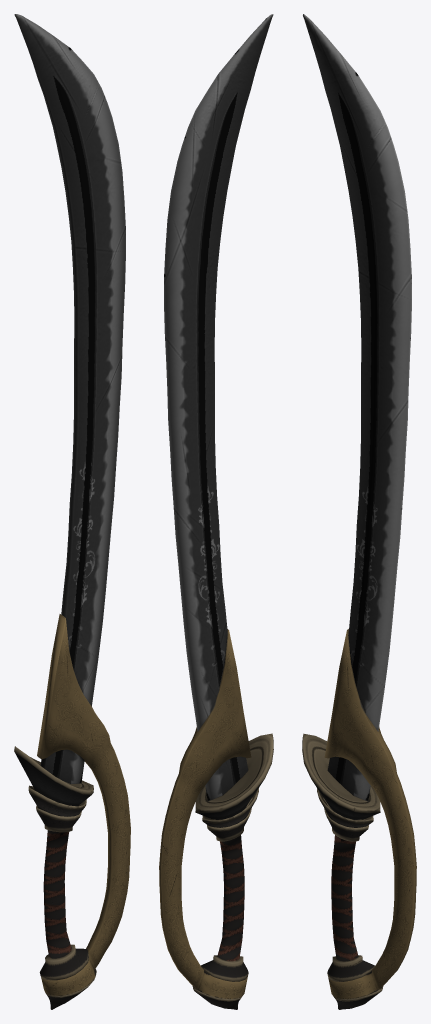
The model's file is saber.fbx.
3 views of the same model, side by side, from view 1: azimuth 30°, elevation 25°; view 2: azimuth 210°, elevation 25°; view 3: azimuth 330°, elevation 25° (orthographic).
Parts seen in each view (by area): view 1: saber; view 2: saber; view 3: saber.
Part boxes in pixels (bbox=[...]): saber: bbox=[14, 14, 130, 1009]; saber: bbox=[159, 14, 273, 1009]; saber: bbox=[302, 14, 416, 1009].
Size of the model in its own units: 58.81 by 490 by 30.14.
Materials: 1 (1 with a texture image).
